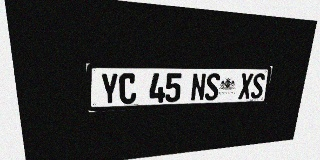4: (149, 73, 166, 103)
5: (165, 73, 182, 102)
C: (119, 73, 136, 104)
N: (190, 73, 206, 101)
S: (204, 73, 220, 101), (250, 73, 265, 99)
X: (238, 73, 253, 99)
Y: (100, 73, 119, 105)
